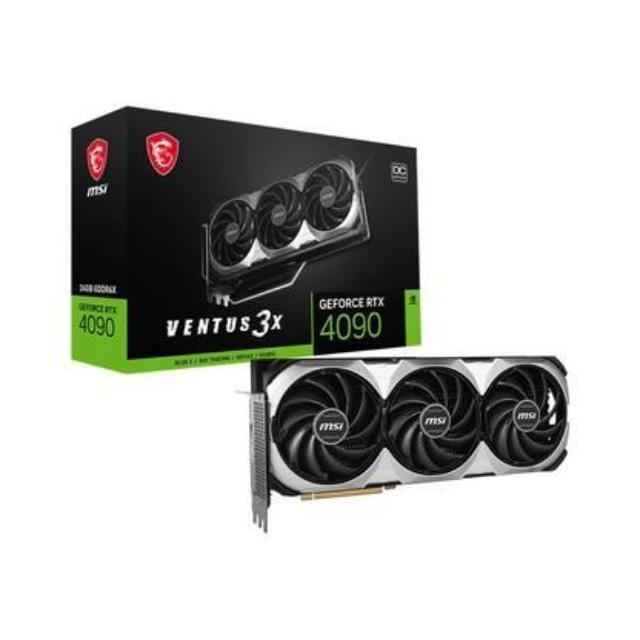GPU: (238, 346, 587, 504)
